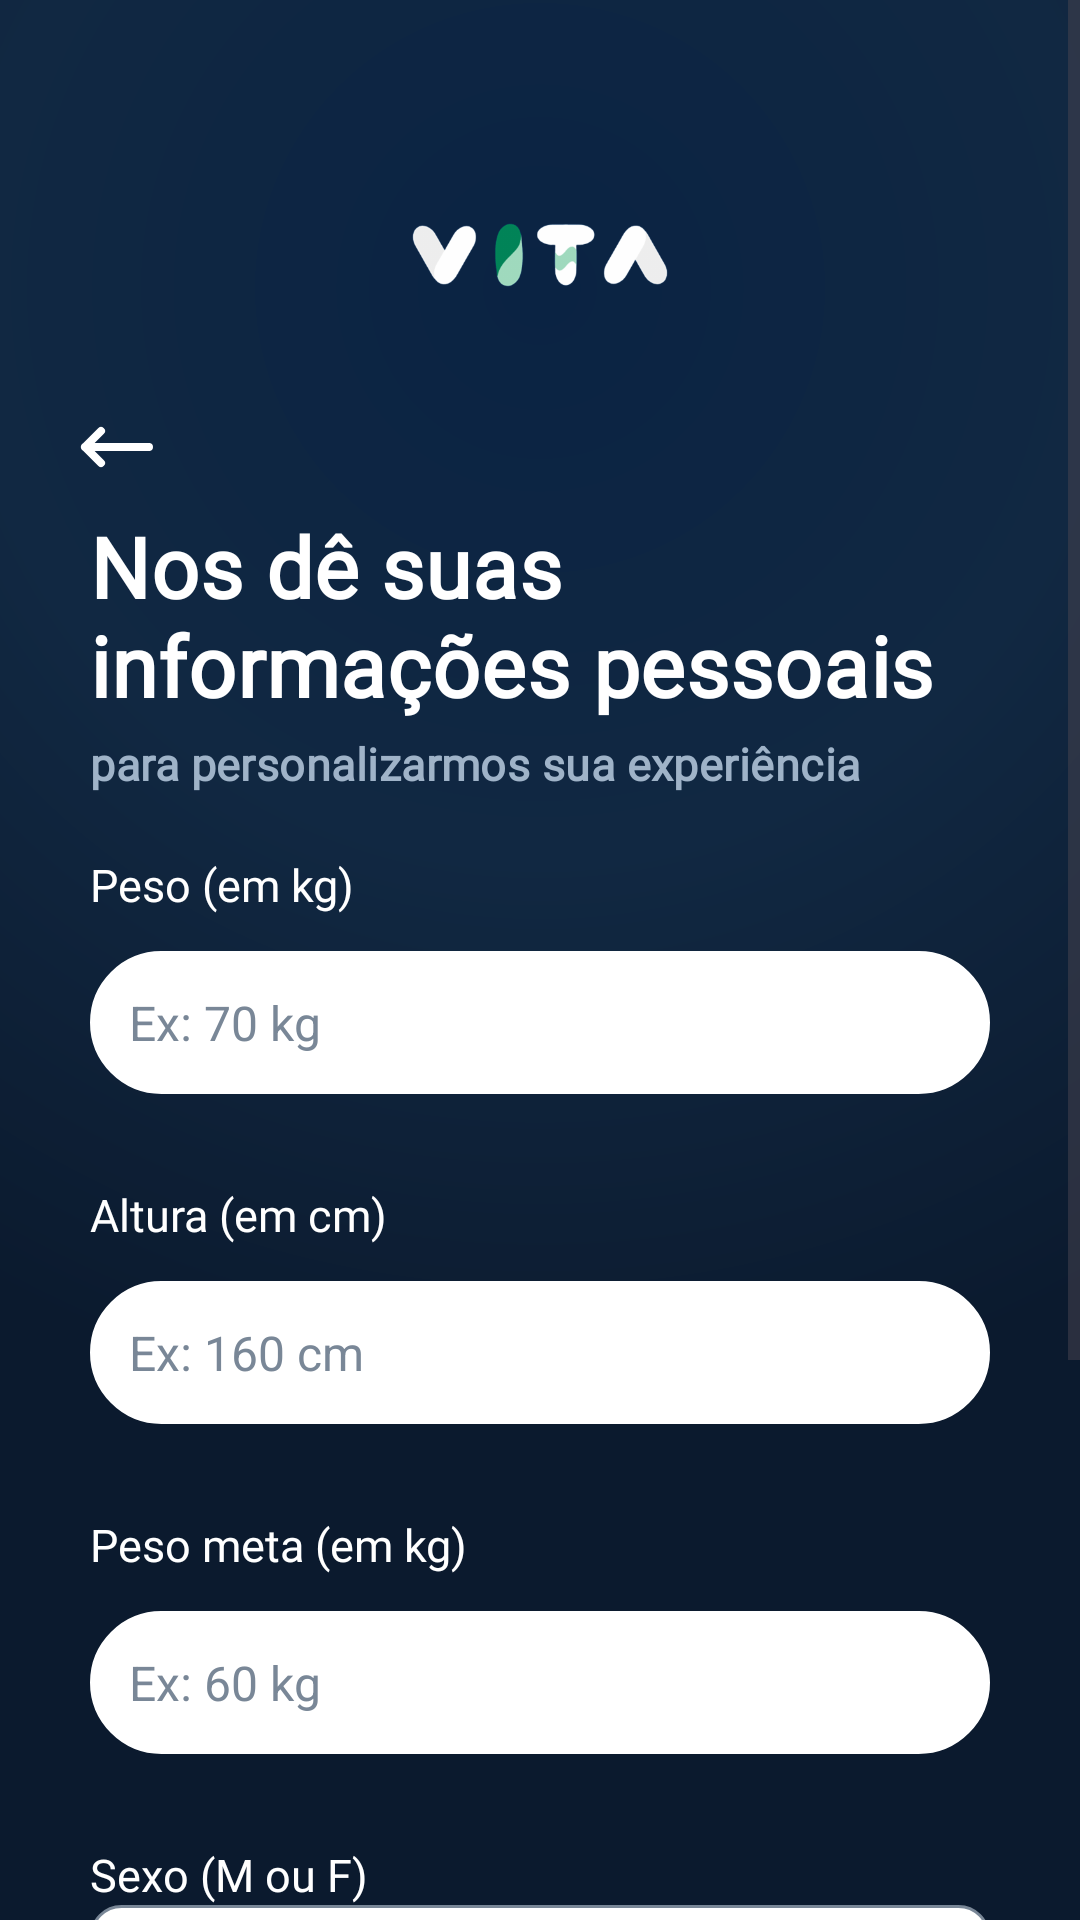

Where icons sit on this 1080 x 1920 app screen, as (x1, y1, x2, y2):
Voltar: (80, 426, 153, 468)
